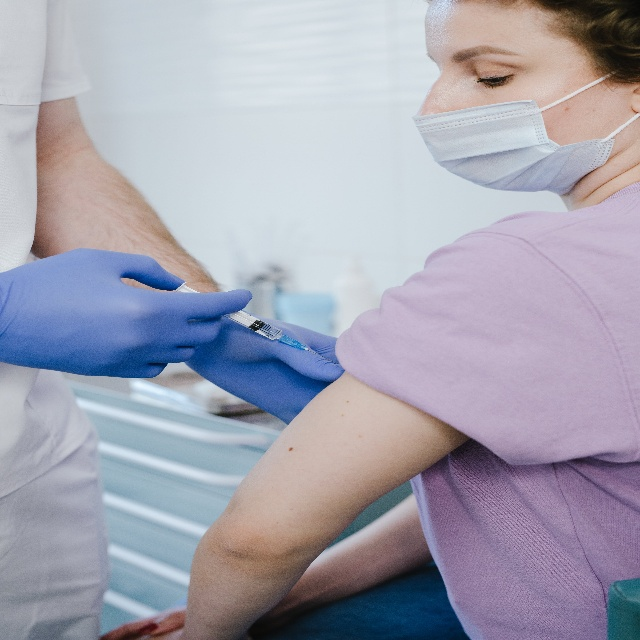Guantes: (0, 248, 256, 381), (184, 308, 346, 427)
Mascara: (412, 66, 640, 196)
